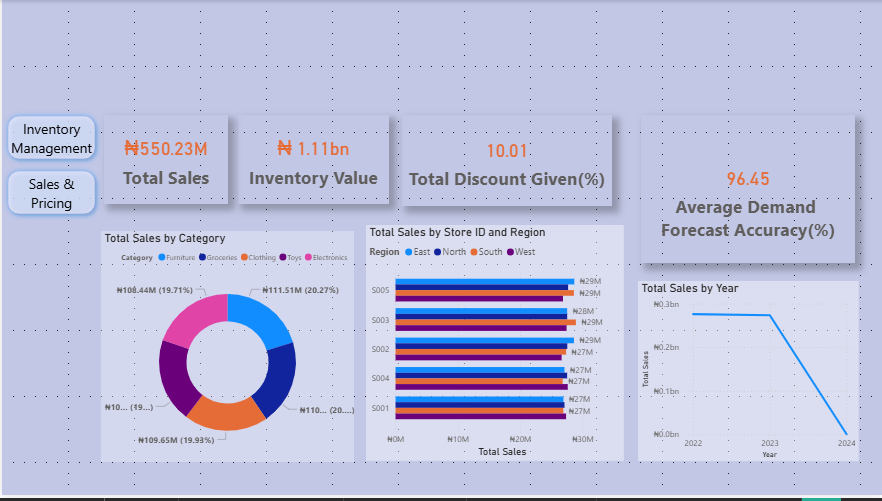

What the dashboard file says about the page in this screenshot:
{"tool":"powerbi","page":{"name":"Home","canvas":[1280,720],"ordinal":0},"visuals":[{"type":"card","fields":{"Values":["Table.Total Sales"]},"box":[149,166.7,180.4,129.4],"z":0},{"type":"card","fields":{"Values":["Table.Inventory Value"]},"box":[343.1,166.7,219.6,129.4],"z":1000},{"type":"card","fields":{"Values":["Table.Total Discount Given(%)"]},"box":[582.4,166.7,305.9,133.3],"z":2000},{"type":"card","fields":{"Values":["Table.Average Demand Forecast Accuracy(%)"]},"box":[929.4,166.7,311.8,215.7],"z":3000},{"type":"lineChart","fields":{"Category":["Date.Date.Variation.Date Hierarchy.Year","Date.Date.Variation.Date Hierarchy.Quarter","Date.Date.Variation.Date Hierarchy.Month","Date.Date.Variation.Date Hierarchy.Day"],"Y":["Table.Total Sales"]},"box":[924.6,408.2,321.3,262.3],"z":4000},{"type":"clusteredBarChart","fields":{"Y":["Table.Total Sales"],"Category":["retail_store_inventory.Store ID"],"Series":["retail_store_inventory.Region"]},"box":[529.4,327.5,374.5,343.1],"z":5000},{"type":"donutChart","fields":{"Category":["retail_store_inventory.Category"],"Y":["Table.Total Sales"]},"box":[144,336,368,336],"z":6000},{"type":"actionButton","box":[0,240,144,80],"z":7000},{"type":"actionButton","box":[0,160,144,80],"z":8000}]}

Visuals, with their boxes in screenshot pixels (x1, y1, x2, y2), scaled from the page's 1280x720 canvas onto the 882x501 screenshot:
card - Table.Total Sales: BBox(103, 116, 227, 206)
card - Table.Inventory Value: BBox(236, 116, 388, 206)
card - Table.Total Discount Given(%): BBox(401, 116, 612, 209)
card - Table.Average Demand Forecast Accuracy(%): BBox(640, 116, 855, 266)
lineChart - Date.Date.Variation.Date Hierarchy.Year x Date.Date.Variation.Date Hierarchy.Quarter: BBox(637, 284, 859, 467)
clusteredBarChart - Table.Total Sales x retail_store_inventory.Store ID: BBox(365, 228, 623, 467)
donutChart - retail_store_inventory.Category x Table.Total Sales: BBox(99, 234, 353, 468)
actionButton: BBox(0, 167, 99, 223)
actionButton: BBox(0, 111, 99, 167)
